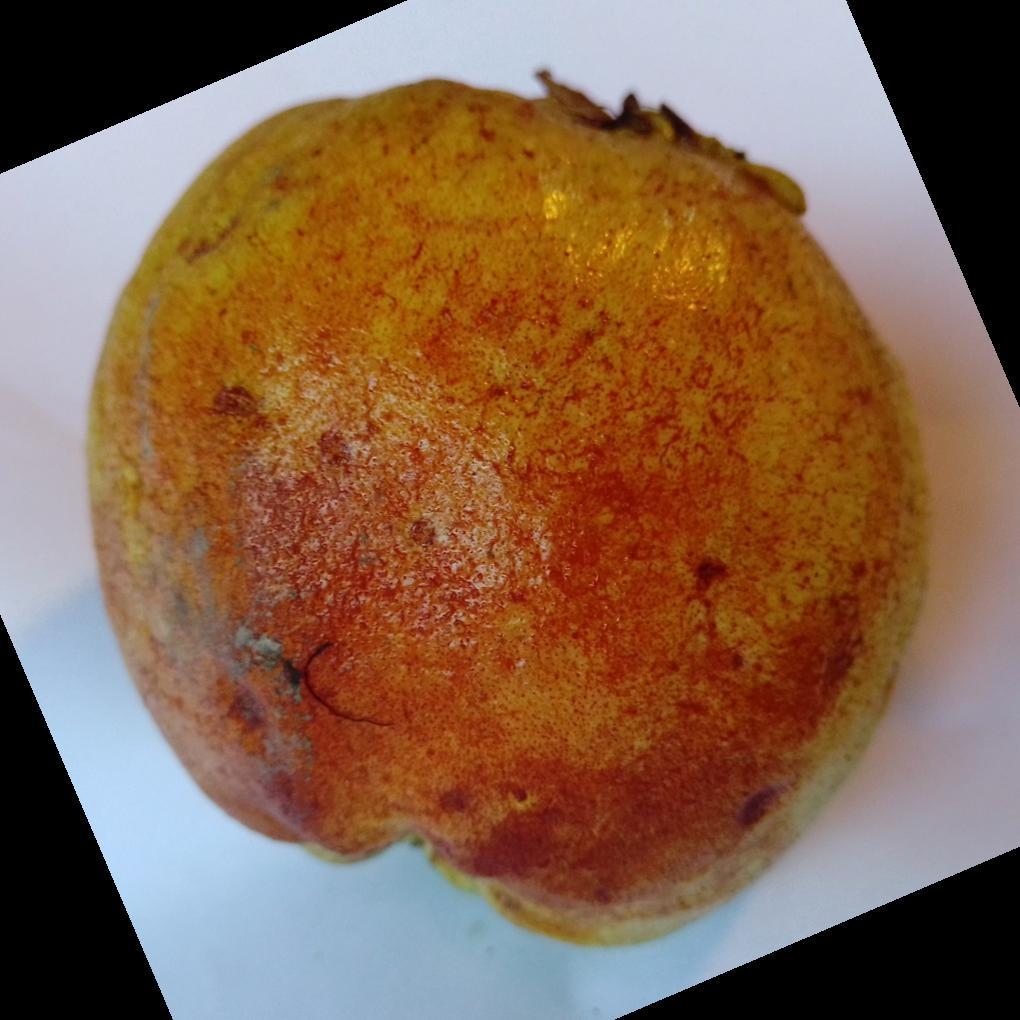FreshOrange: (83, 73, 934, 953)
